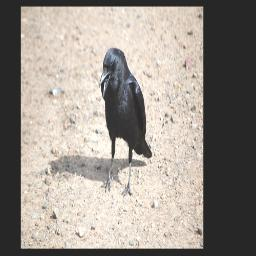Crow: (99, 47, 152, 196)
